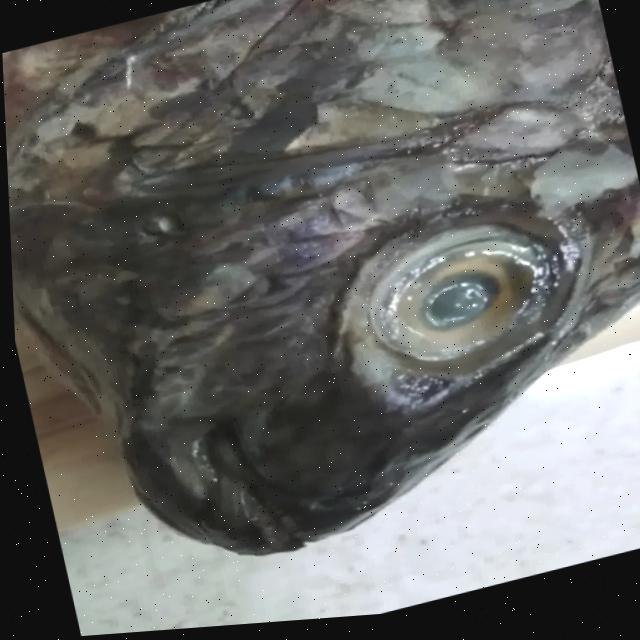Non-Fresh: (317, 192, 587, 410)
